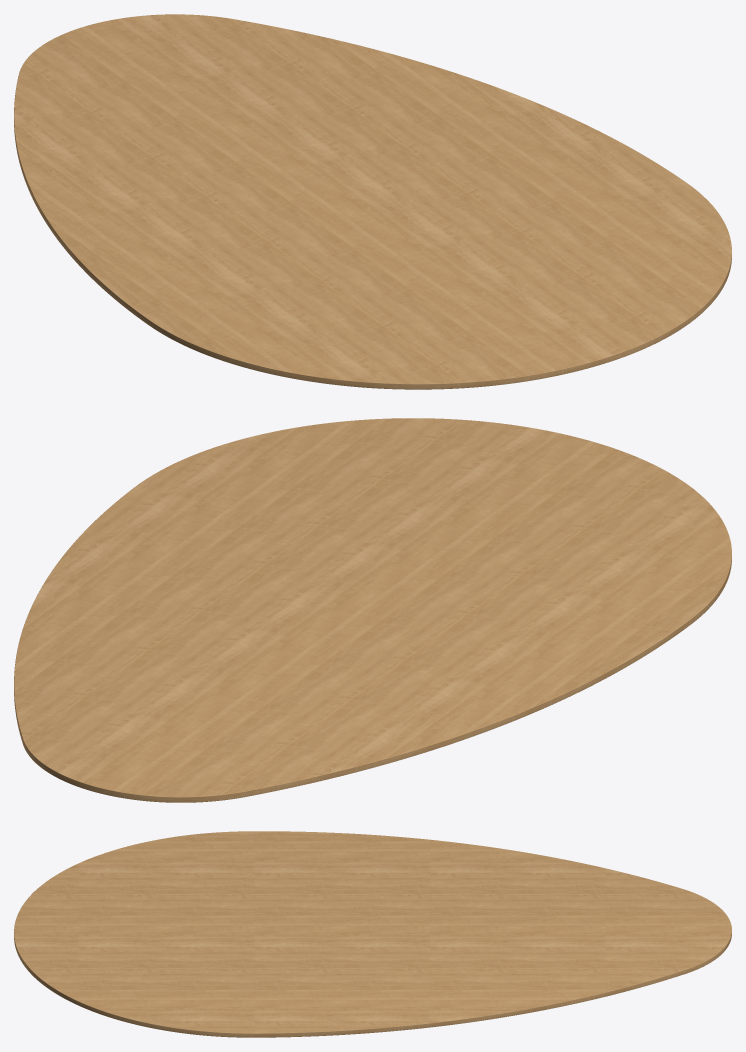
File: oval_mango_wood_natural.glb
3 views of the same model, one above another, from view 1: azimuth 30°, elevation 25°; view 2: azimuth 150°, elevation 25°; view 3: azimuth 270°, elevation 25° (orthographic). The views are drawn at different scales.
Parts seen in each view (by area): view 1: Egg001; view 2: Egg001; view 3: Egg001.
Part boxes in pixels (bbox=[...]): Egg001: bbox=[14, 14, 731, 389]; Egg001: bbox=[14, 418, 731, 802]; Egg001: bbox=[14, 831, 731, 1037].
Size of the model in its own units: 1.5 by 0.015 by 2.25.
1 material, 1 textured.
